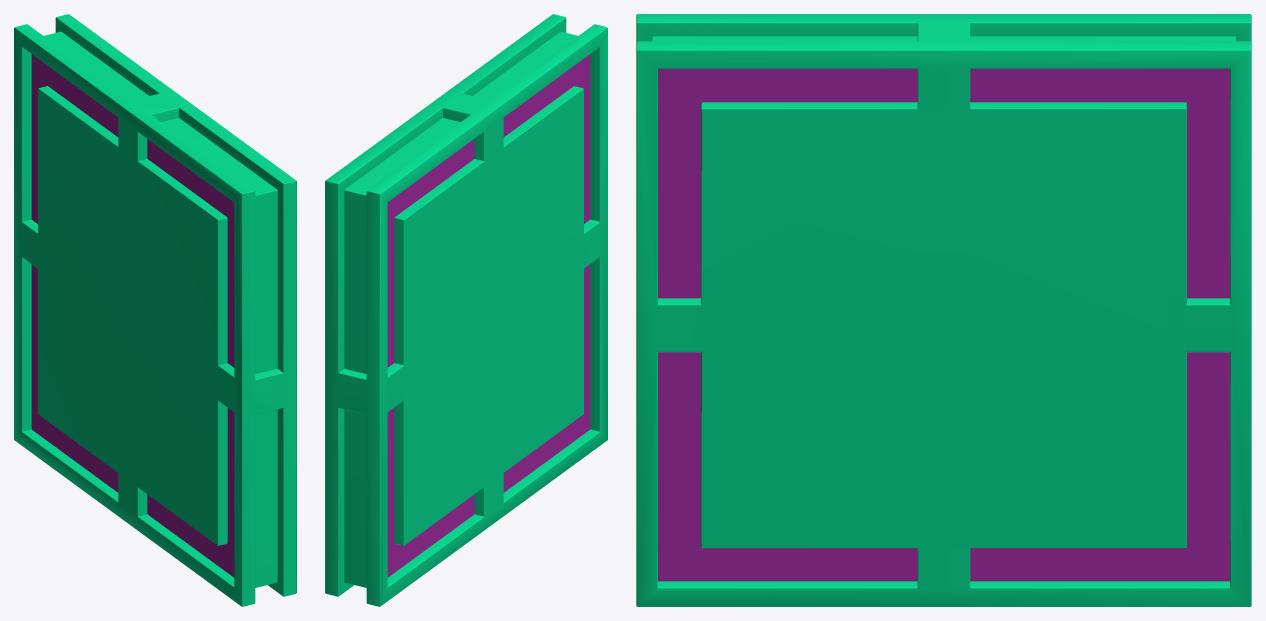
Rendered from SM Platform Flat.fbx.
The picture shows the model from 3 angles, left to right: view 1: azimuth 30°, elevation 25°; view 2: azimuth 150°, elevation 25°; view 3: azimuth 270°, elevation 25°; orthographic projection. The views are drawn at different scales.
Visible parts, largest first — view 1: SM_Platform_Flat; view 2: SM_Platform_Flat; view 3: SM_Platform_Flat.
Boxes of the visible parts, x1=… form: SM_Platform_Flat: x1=14, y1=14, x2=296, y2=606; SM_Platform_Flat: x1=325, y1=14, x2=607, y2=606; SM_Platform_Flat: x1=636, y1=14, x2=1251, y2=606.
Size of the model in its own units: 81.51 by 582 by 582.
